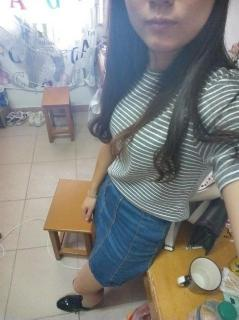short sleeve top: (108, 57, 239, 222)
skirt: (89, 174, 173, 287)
